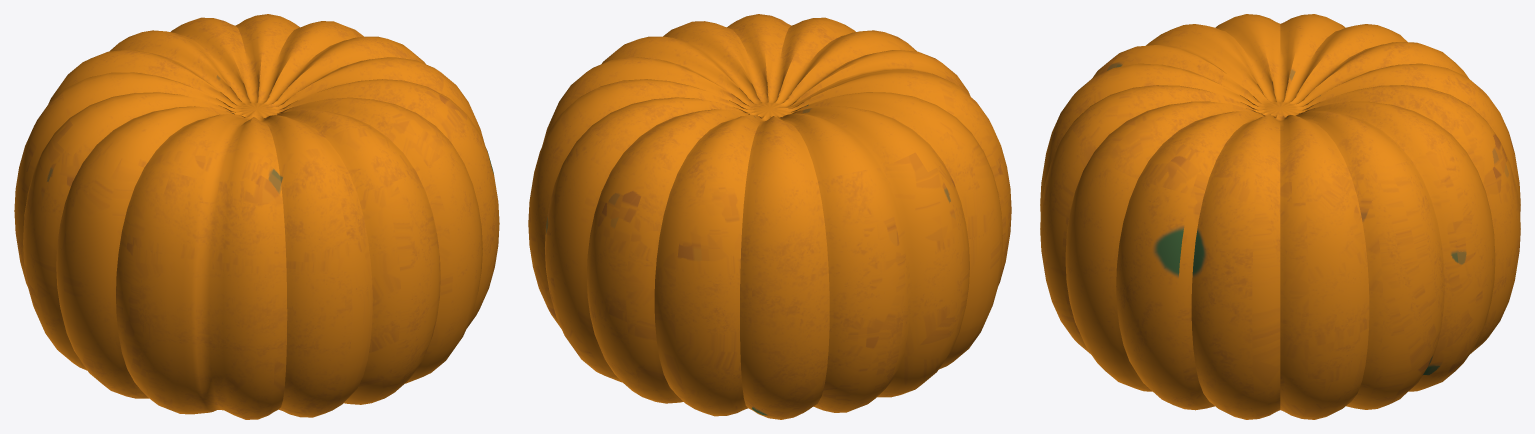
File: pumpkimn.fbx
The picture shows the model from 3 angles, left to right: view 1: azimuth 30°, elevation 25°; view 2: azimuth 150°, elevation 25°; view 3: azimuth 270°, elevation 25°; orthographic projection.
Visible parts, largest first — view 1: pumpkin; view 2: pumpkin; view 3: pumpkin.
Part boxes in pixels (x1,y1,x2,y2): pumpkin: (14,14,499,419); pumpkin: (528,14,1011,419); pumpkin: (1040,14,1520,419).
Bounding box in the file's own units: 26.2 × 16.85 × 26.2.
